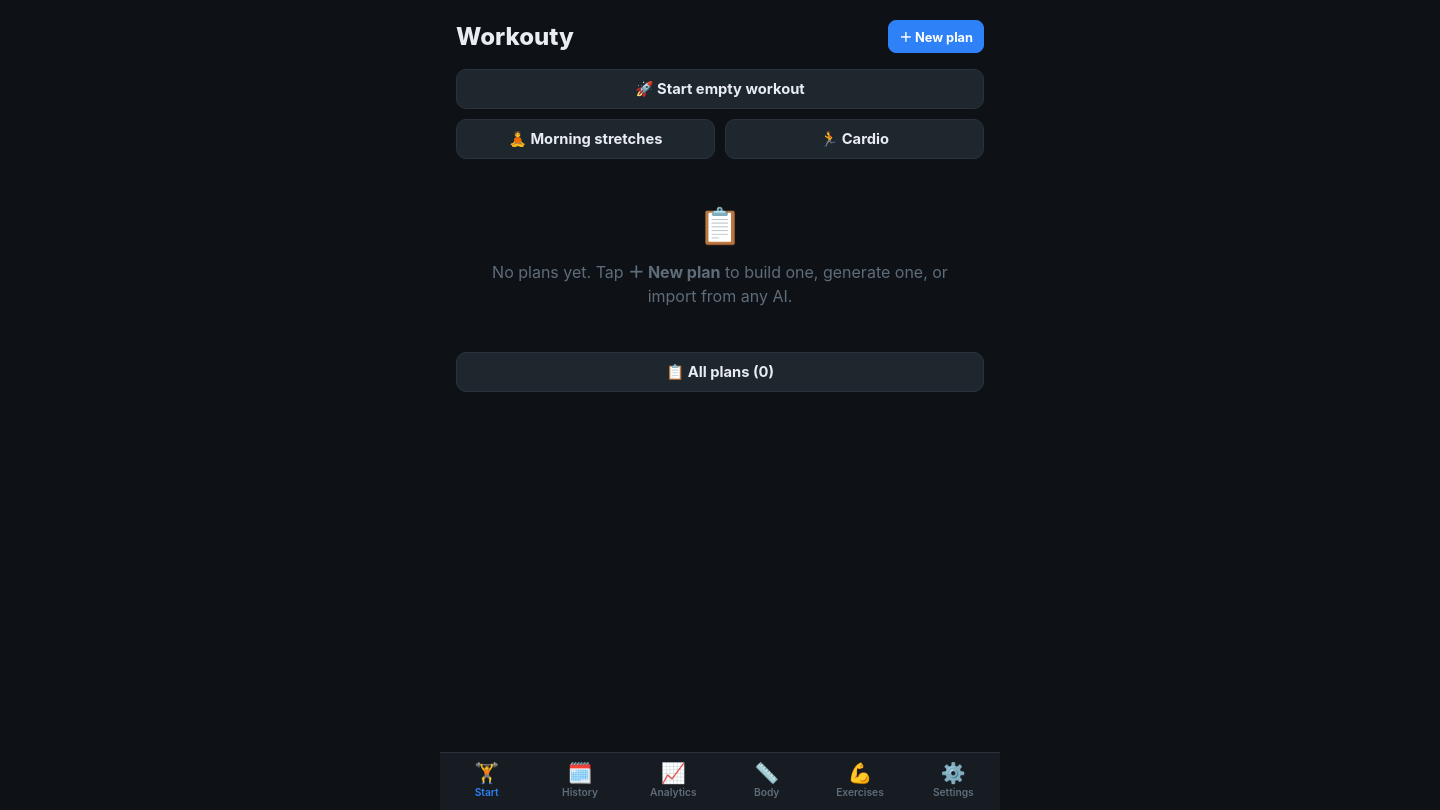
Test: custom exercise duplicate check › suggests similar exercises without blocking
This screenshot has width=1440, height=810.
Click the text "Exercises".
click(860, 792)  # box top-left (836, 786), bottom-right (884, 798)
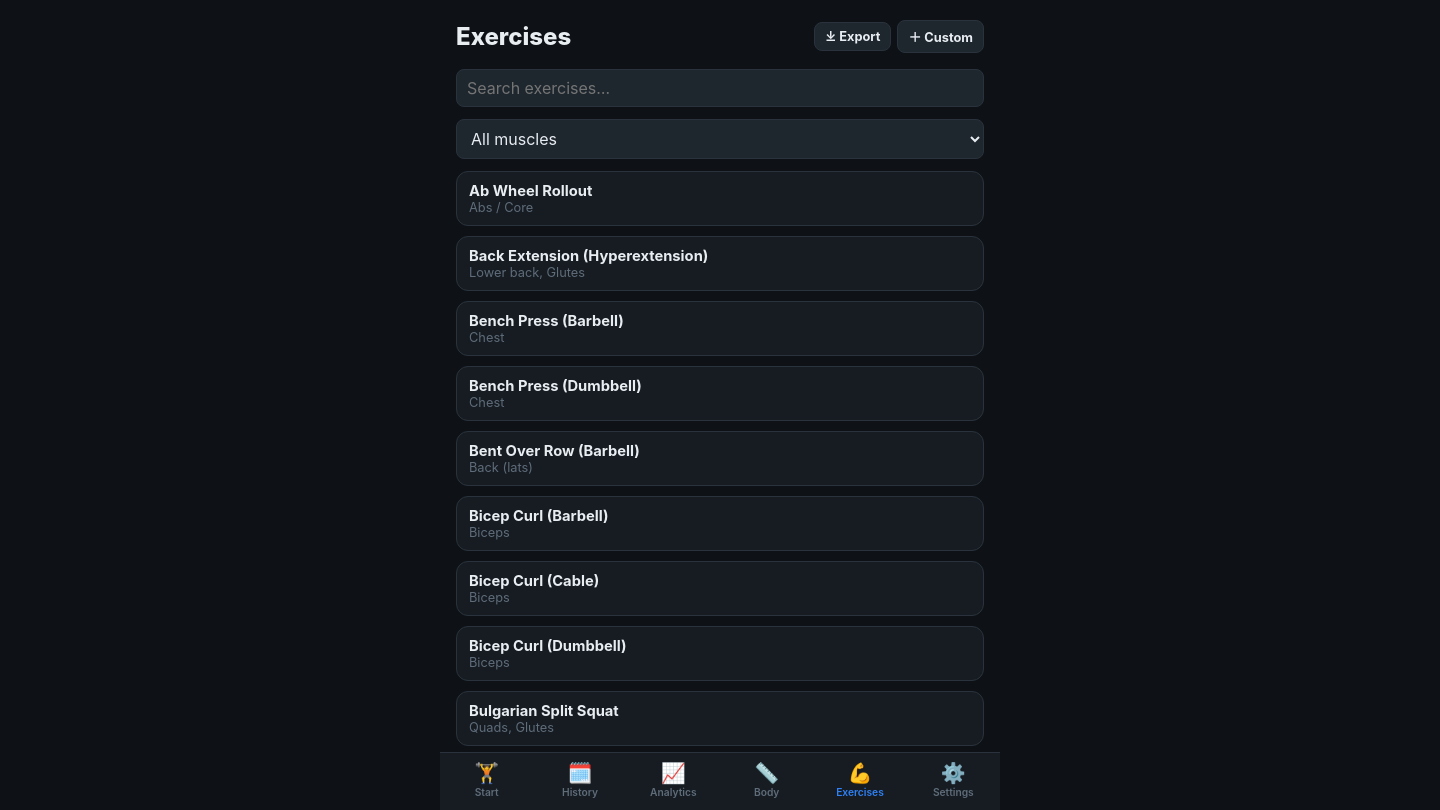
Click the button "＋ Custom".
click(941, 36)  # box top-left (898, 20), bottom-right (984, 53)
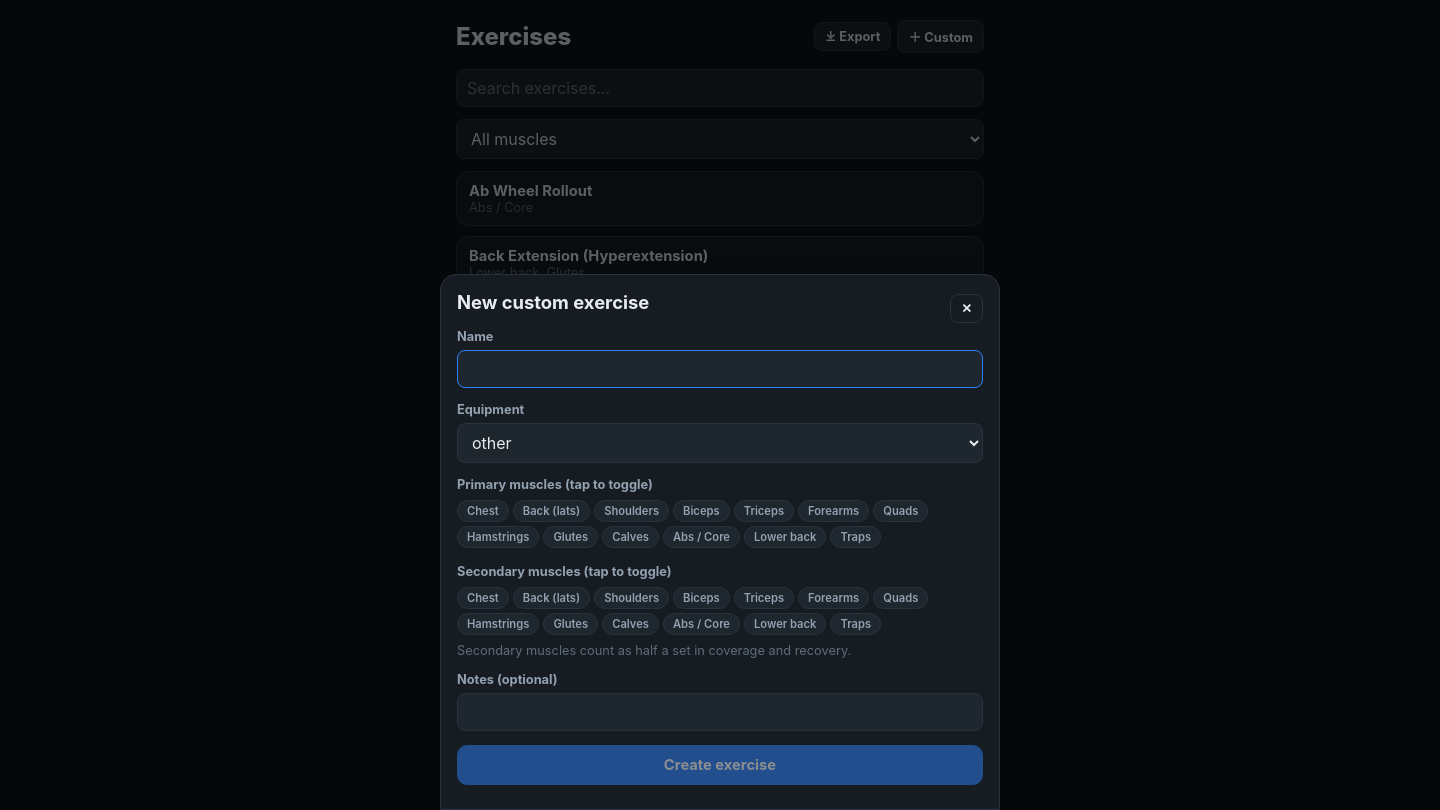
Type "Incline Bench" into the field below "Name".
click(720, 369); type("Incline Bench")  # box top-left (457, 350), bottom-right (983, 388)
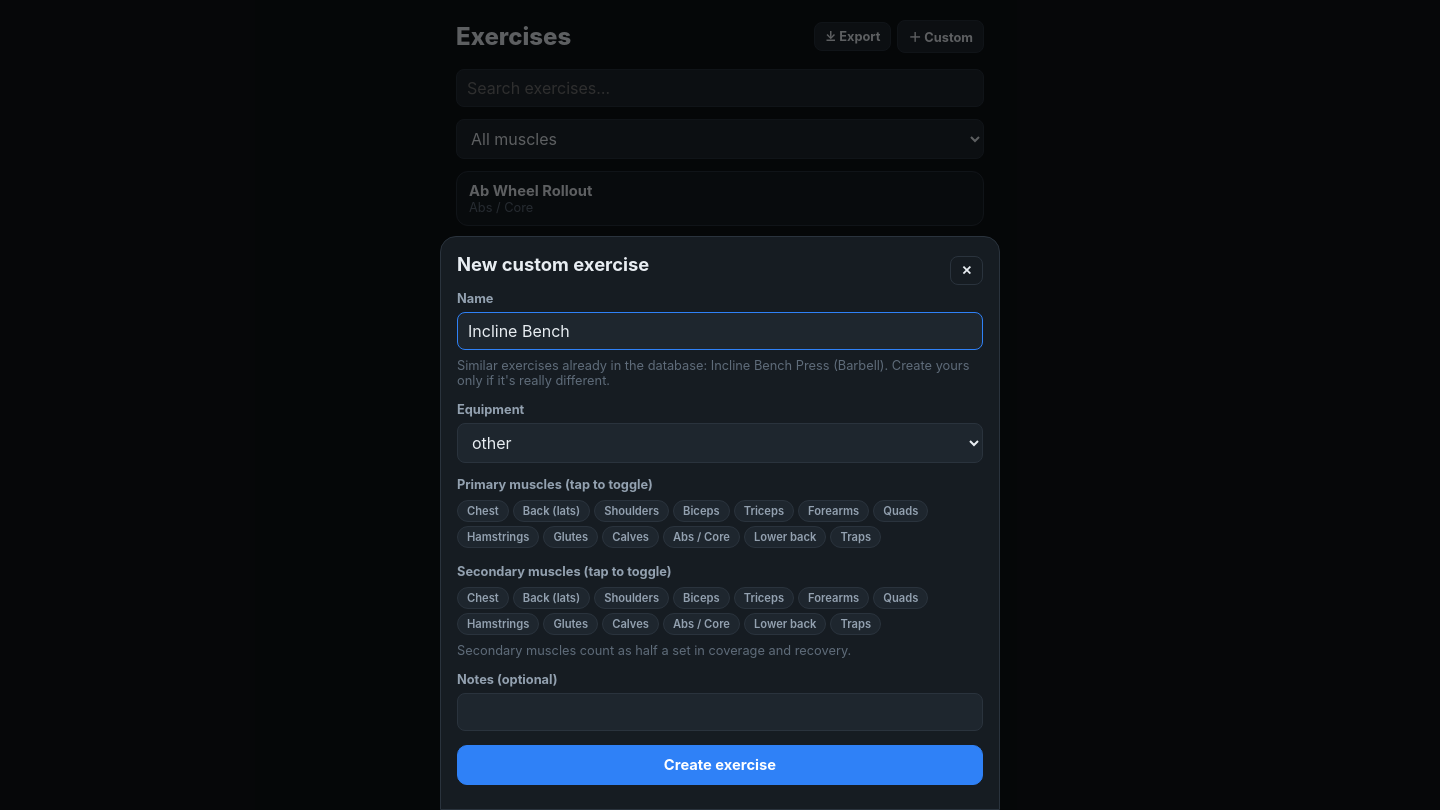
Expected: the text "Similar exercises already in the database" is shown, top-left (457, 358), bottom-right (707, 373)
Expected: the button "Create exercise" is enabled, top-left (457, 745), bottom-right (983, 785)
